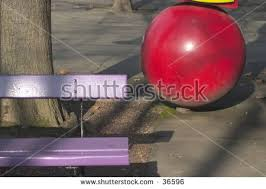buoy: (144, 5, 243, 108)
